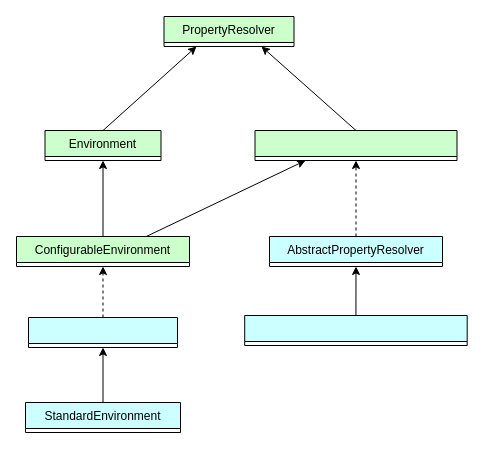
This 484x449 diagram has some shape labels left out. The shapes that lost their labels are listed below. From the top down, each one's centre as x and y in pixels, then its label:
(355,145): ConfigurablePropertyResolver
(103,332): AbstractEnvironment
(355,330): PropertySourcesPropertyResolver
